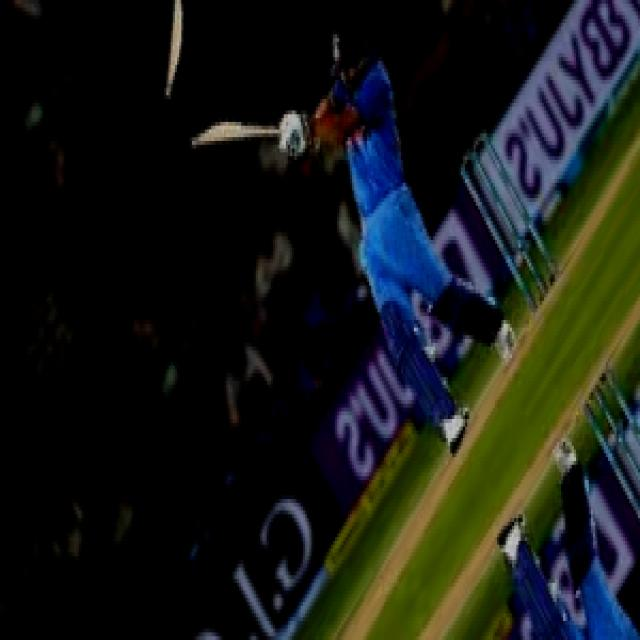toe: (188, 124, 212, 152)
